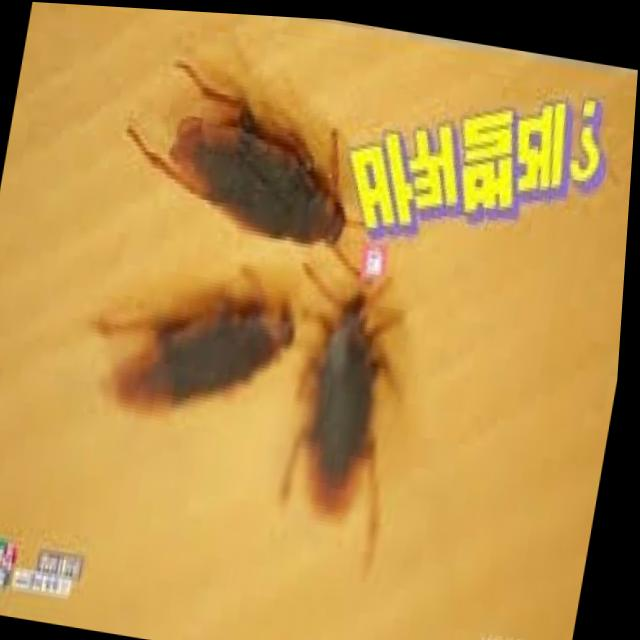Cockroach: (89, 30, 434, 314), (56, 201, 354, 487), (273, 221, 430, 582)
